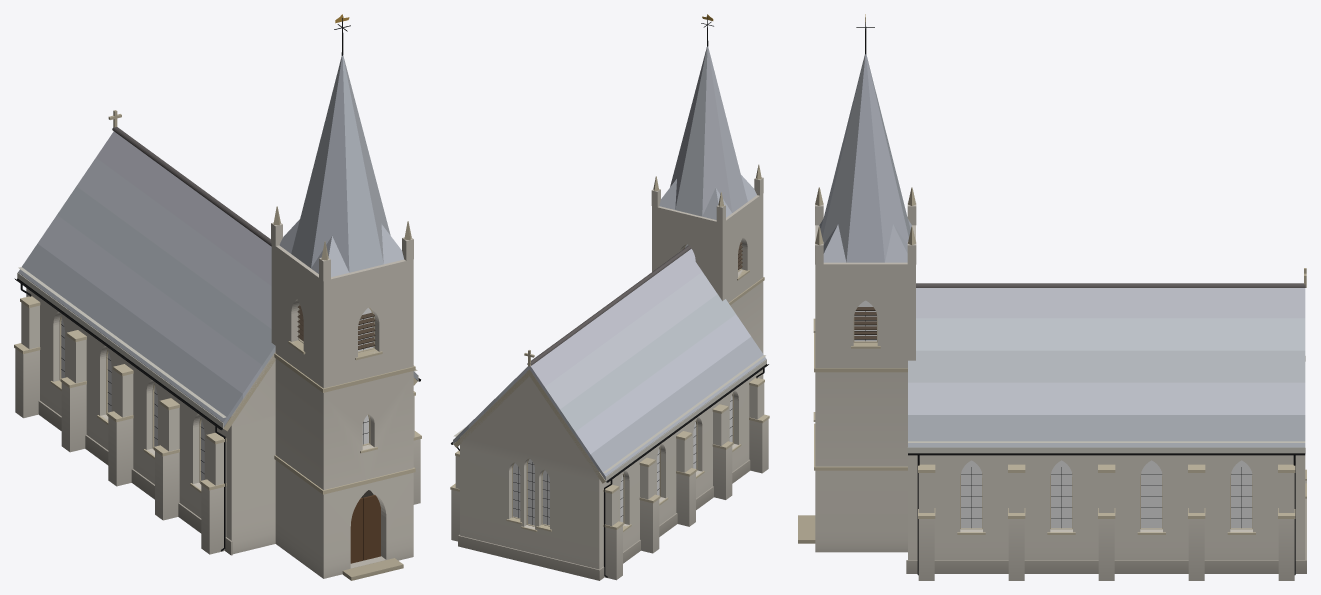
File: town_church_a_lod1.glb
The picture shows the model from 3 angles, left to right: view 1: azimuth 30°, elevation 25°; view 2: azimuth 150°, elevation 25°; view 3: azimuth 270°, elevation 25°; orthographic projection. The views are drawn at different scales.
Parts seen in each view (by area): view 1: body; view 2: body; view 3: body.
Part boxes in pixels (x1,y1,x2,y2): body: [14, 14, 421, 580]; body: [450, 14, 769, 580]; body: [798, 14, 1306, 580].
Size of what is drawn, in the model's own units: 8.96 by 21.55 by 19.21.
